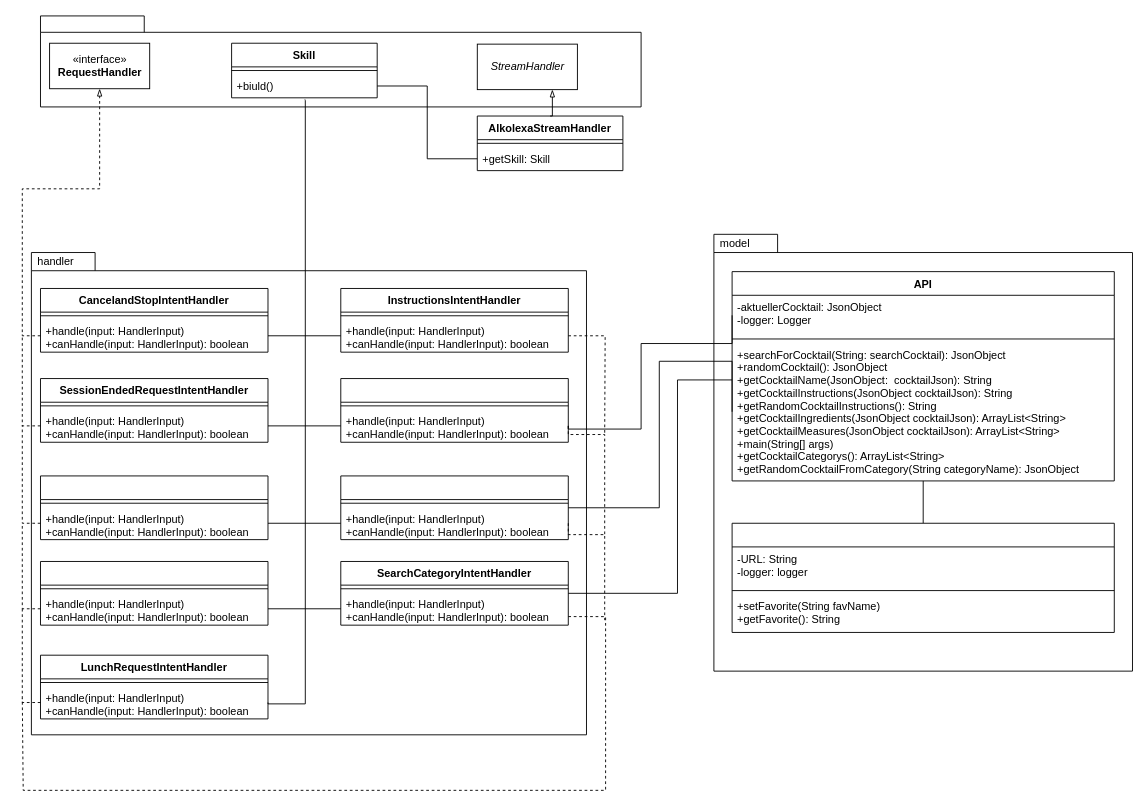
The diagram is 1148 pixels wide and 807 high, and some of its shapes have lost their labels. Each missing label, with the box of its shape:
com.amazon.ask: (40, 15, 641, 107)
FallBackIntentHandler: (40, 475, 268, 540)
HelpIntentHandler: (40, 561, 268, 625)
JsonObjectFromUrl: (731, 522, 1114, 632)
RandomCocktailIntentHandler: (340, 378, 568, 442)
SearchCocktailIntentHandler: (340, 475, 568, 540)
